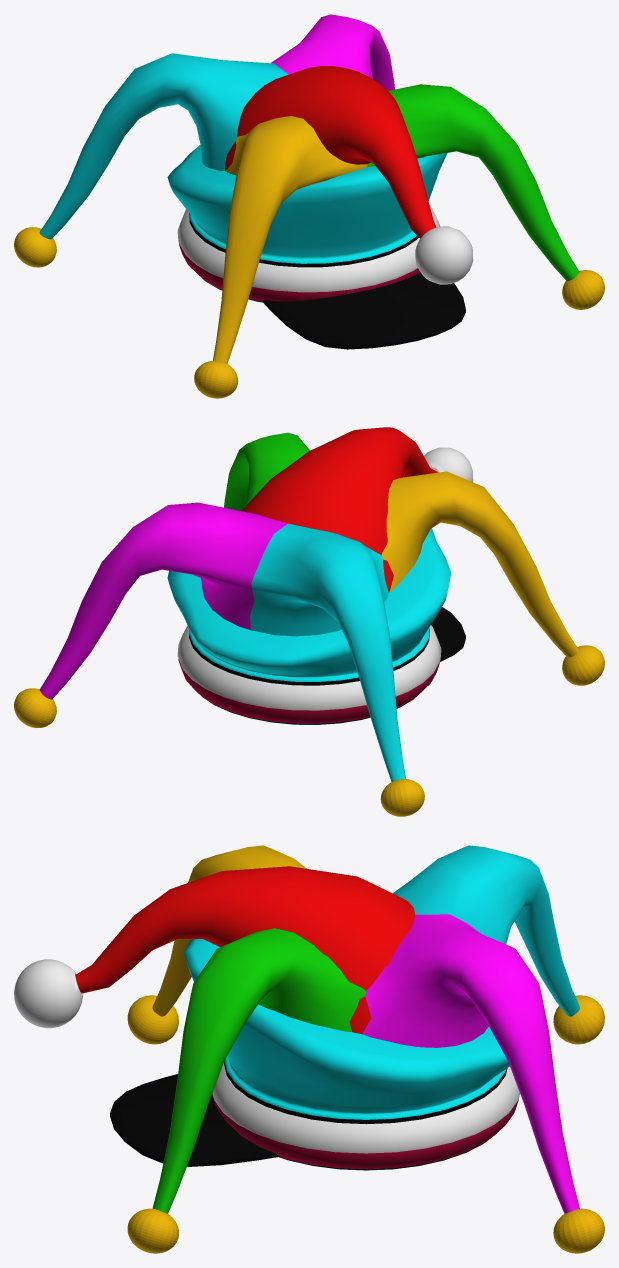
Rendered from CAP.fbx.
3 views of the same model, one above another, from view 1: azimuth 30°, elevation 25°; view 2: azimuth 150°, elevation 25°; view 3: azimuth 270°, elevation 25° (orthographic). The views are drawn at different scales.
Visible parts, largest first — view 1: Circle.001, Circle.002, Circle; view 2: Circle.001, Circle, Circle.002; view 3: Circle.001, Circle, Circle.002.
Part boxes in pixels (<box>): Circle.001: <box>14,14,604,398</box>; Circle.002: <box>167,145,465,349</box>; Circle: <box>177,66,473,292</box>; Circle.001: <box>14,432,604,816</box>; Circle: <box>177,427,473,710</box>; Circle.002: <box>167,528,465,724</box>; Circle.001: <box>127,845,604,1253</box>; Circle: <box>14,866,519,1153</box>; Circle.002: <box>110,939,509,1170</box>.
Size of the model in its own units: 377 by 205 by 405.
